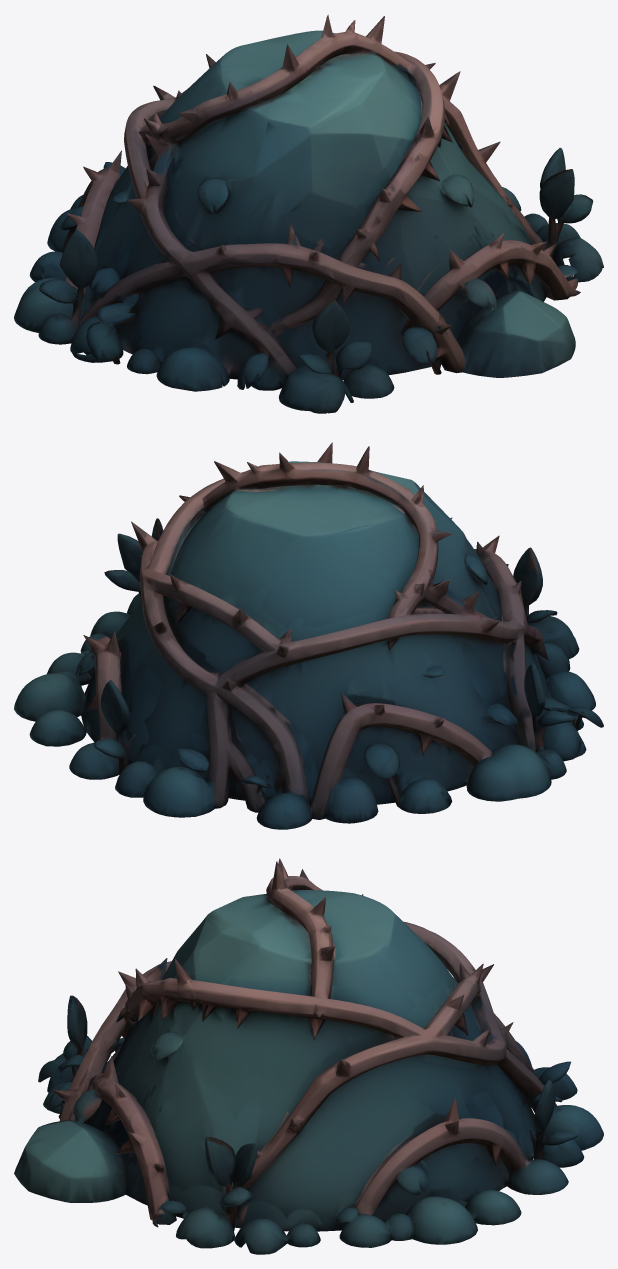
File: vinemound.glb
3 renders of one model, top to bottom at view 1: azimuth 30°, elevation 25°; view 2: azimuth 150°, elevation 25°; view 3: azimuth 270°, elevation 25°, orthographic. The views are drawn at different scales.
Parts seen in each view (by area): view 1: node_0; view 2: node_0; view 3: node_0.
Boxes of the visible parts, bbox=[...] form: node_0: bbox=[14, 14, 603, 413]; node_0: bbox=[14, 442, 603, 829]; node_0: bbox=[14, 858, 603, 1254].
Size of the model in its own units: 1.01 by 0.4937 by 1.02.
Materials: 1 (1 with a texture image).
